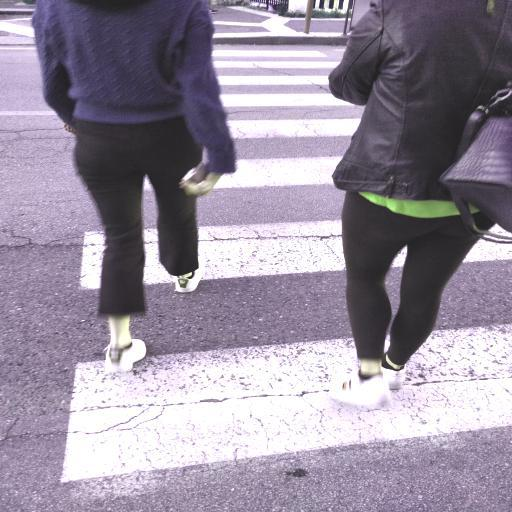crosswalk: (50, 210, 511, 491)
